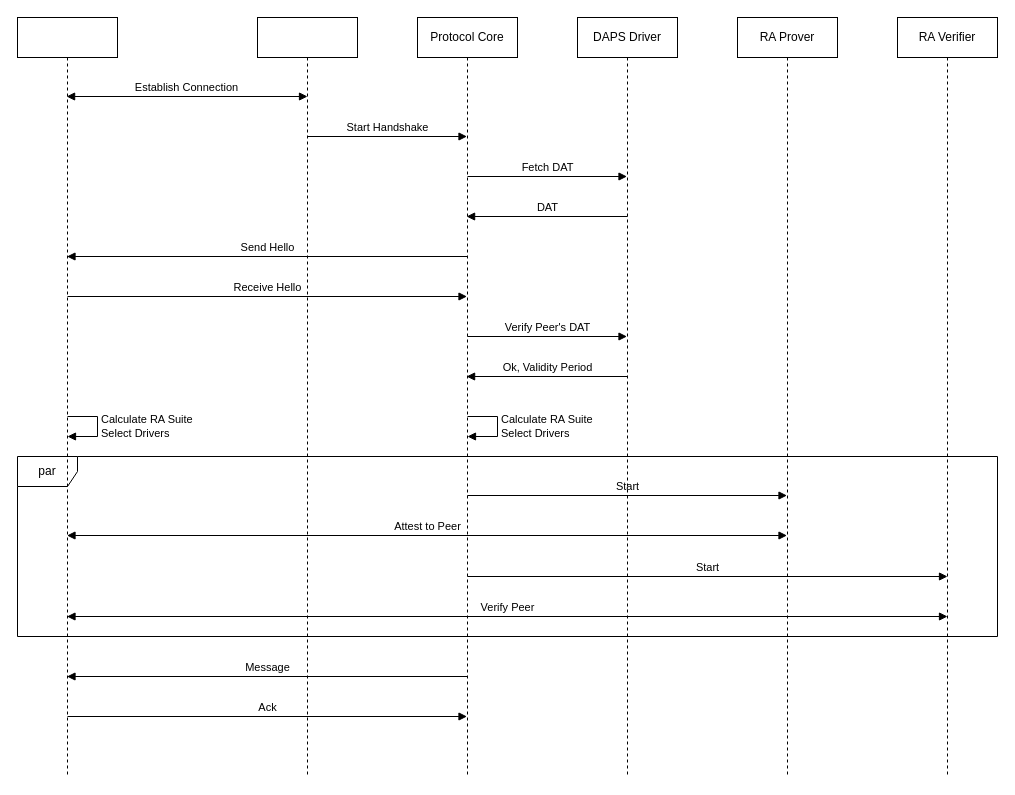
This 1015x795 diagram has some shape labels left out. Here are the shapes that lost their labels. From the top down, the box of each, then its label:
(16, 16, 118, 778): Peer
(256, 16, 358, 778): Secure Channel Driver
